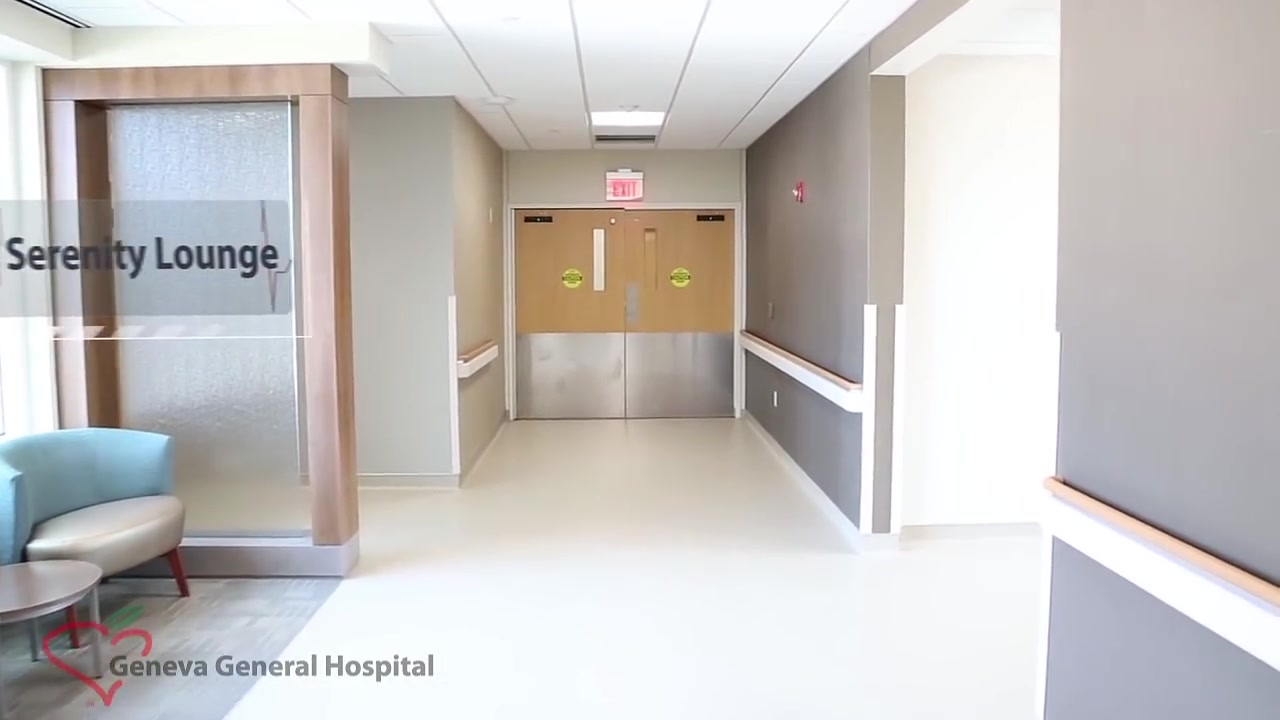hallway_assist_bar: (1034, 461, 1280, 678), (737, 329, 864, 416), (456, 337, 501, 382)
sofa: (1, 421, 194, 649)
table: (1, 558, 112, 681)
